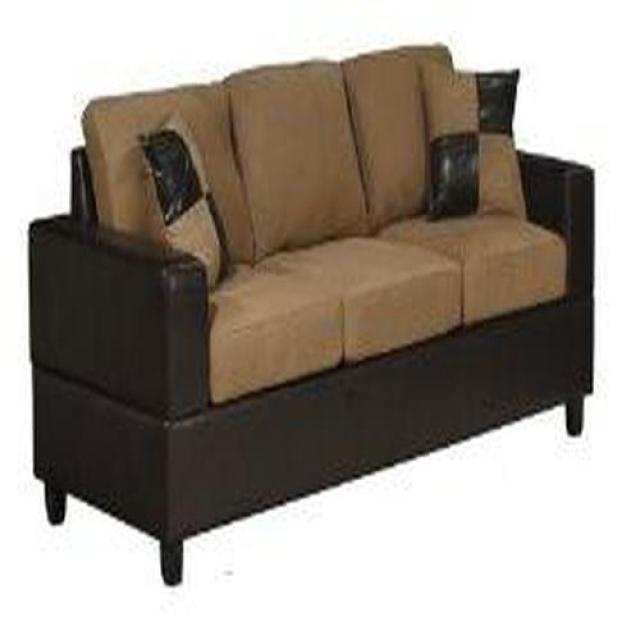sofa: (27, 46, 595, 588)
